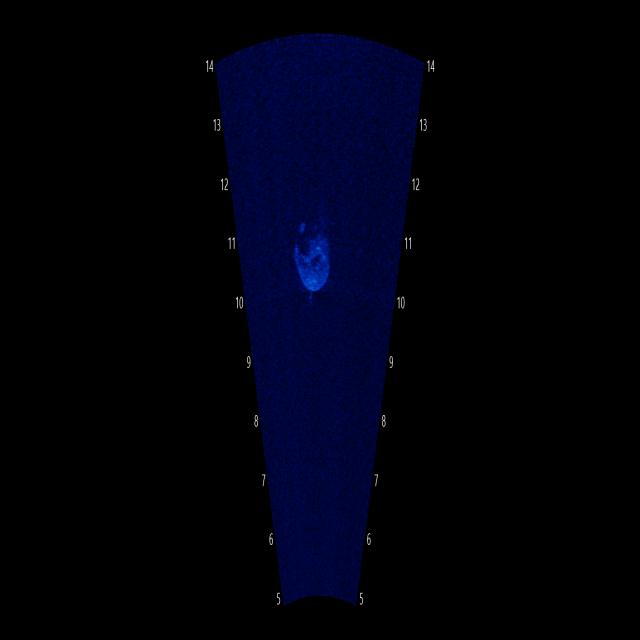circle: (288, 204, 337, 305)
